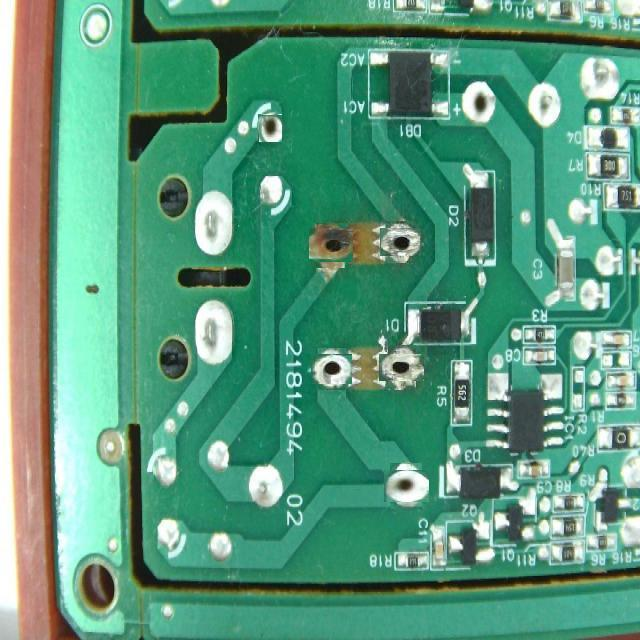damged: (311, 226, 351, 265), (387, 466, 425, 506), (463, 80, 495, 126), (384, 349, 420, 386), (313, 352, 349, 388), (383, 225, 418, 260), (258, 114, 282, 142)
